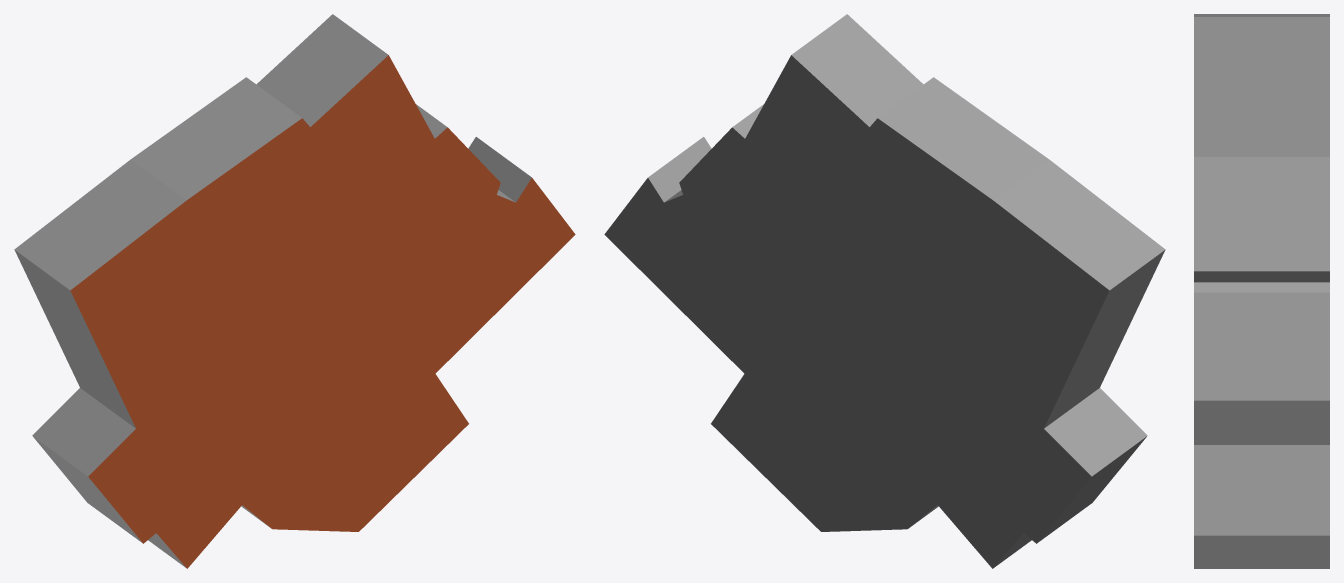
File: construction_6580_assumed_A_Casa_h6m.obj
The picture shows the model from 3 angles, left to right: view 1: azimuth 30°, elevation 25°; view 2: azimuth 150°, elevation 25°; view 3: azimuth 270°, elevation 25°; orthographic projection. The views are drawn at different scales.
Visible parts, largest first — view 1: construction_6580_assumed_A_Casa; view 2: construction_6580_assumed_A_Casa; view 3: construction_6580_assumed_A_Casa.
Boxes of the visible parts, <box> form: construction_6580_assumed_A_Casa: <box>14,14,575,568</box>; construction_6580_assumed_A_Casa: <box>604,14,1165,568</box>; construction_6580_assumed_A_Casa: <box>1194,14,1329,568</box>.
Size of the model in its own units: 31.24 by 27.76 by 6.
